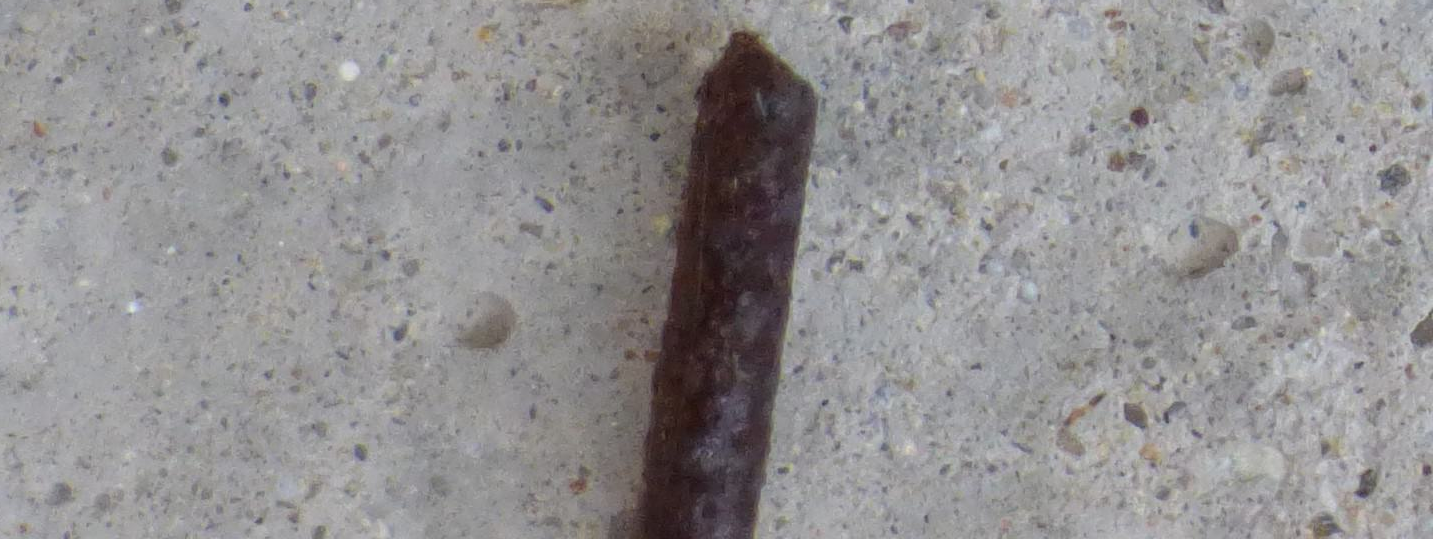Exposed reinforcement: (637, 30, 819, 539)
